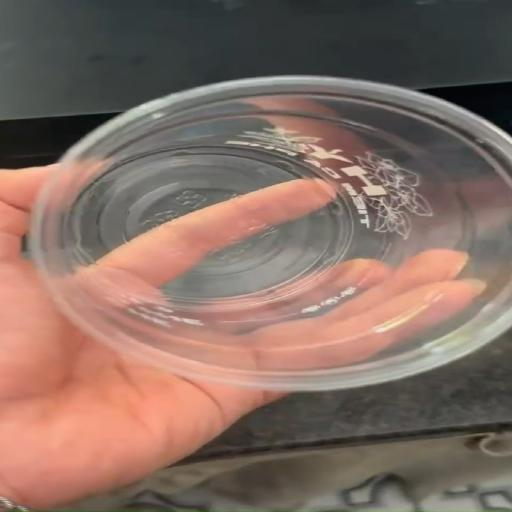ly_nhua: (30, 76, 511, 390)
